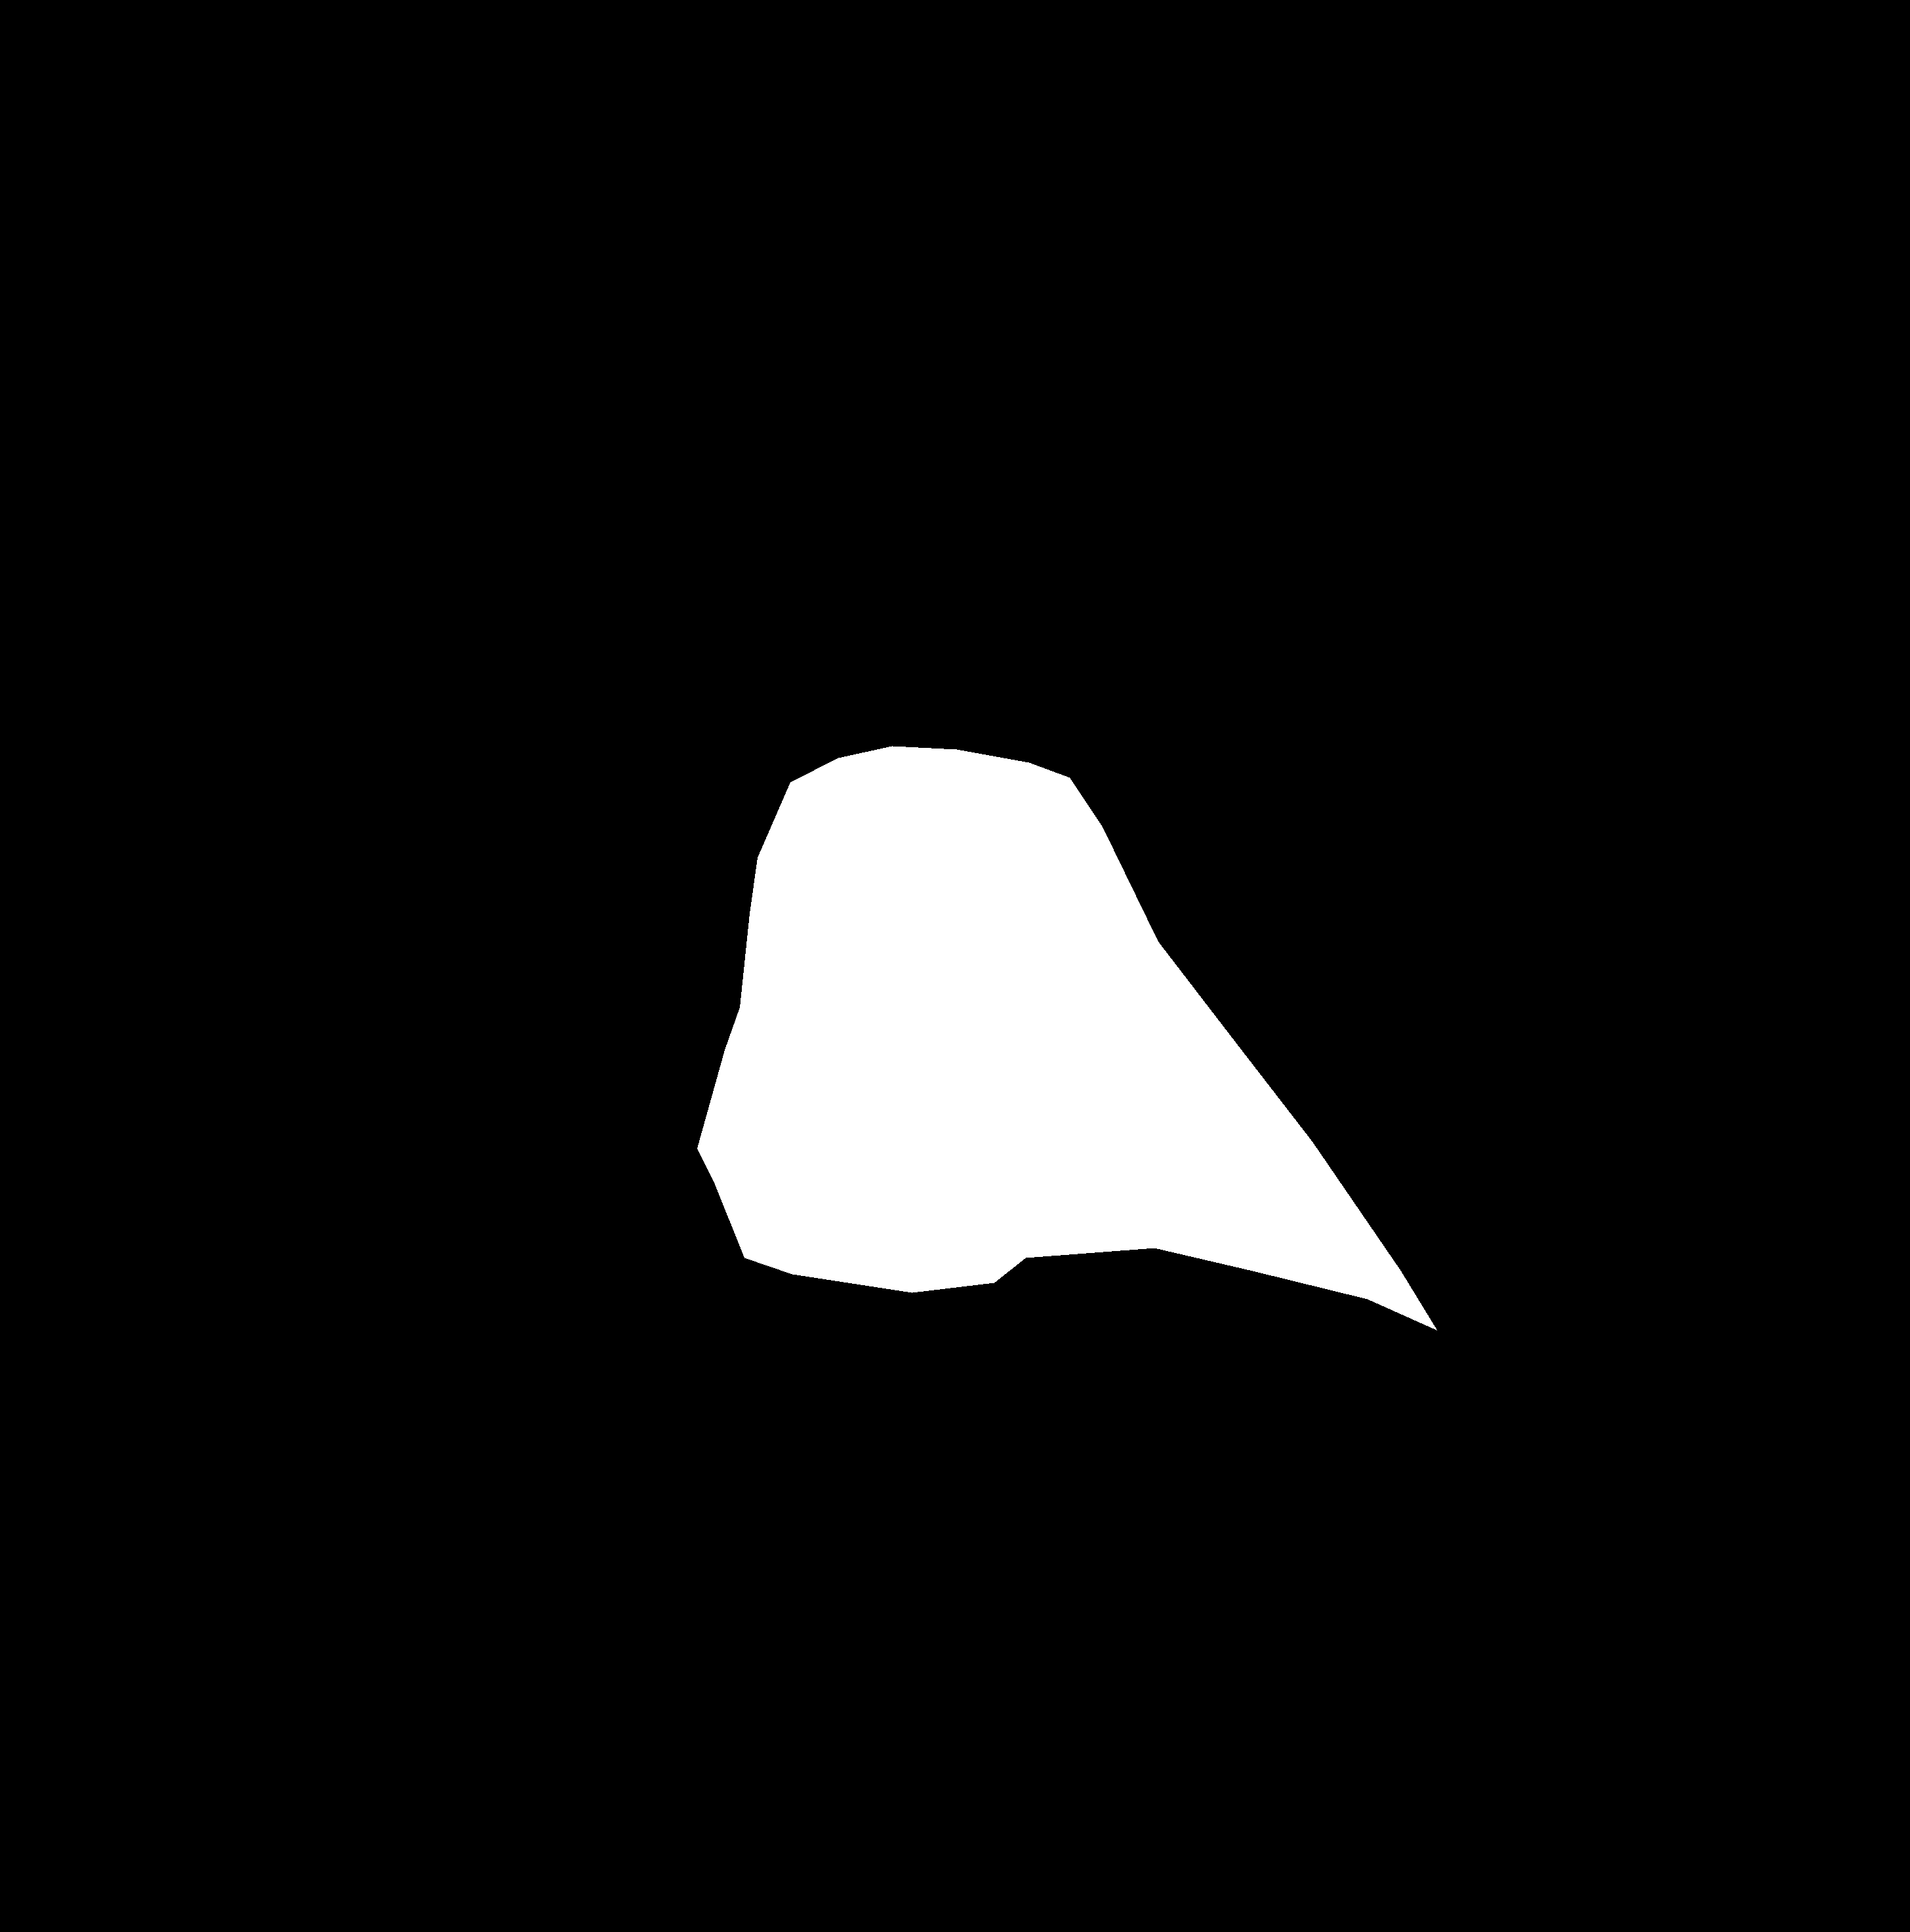heart: (698, 745, 1436, 1330)
left_lung: (89, 299, 826, 1589)
right_lung: (971, 296, 1707, 1503)
